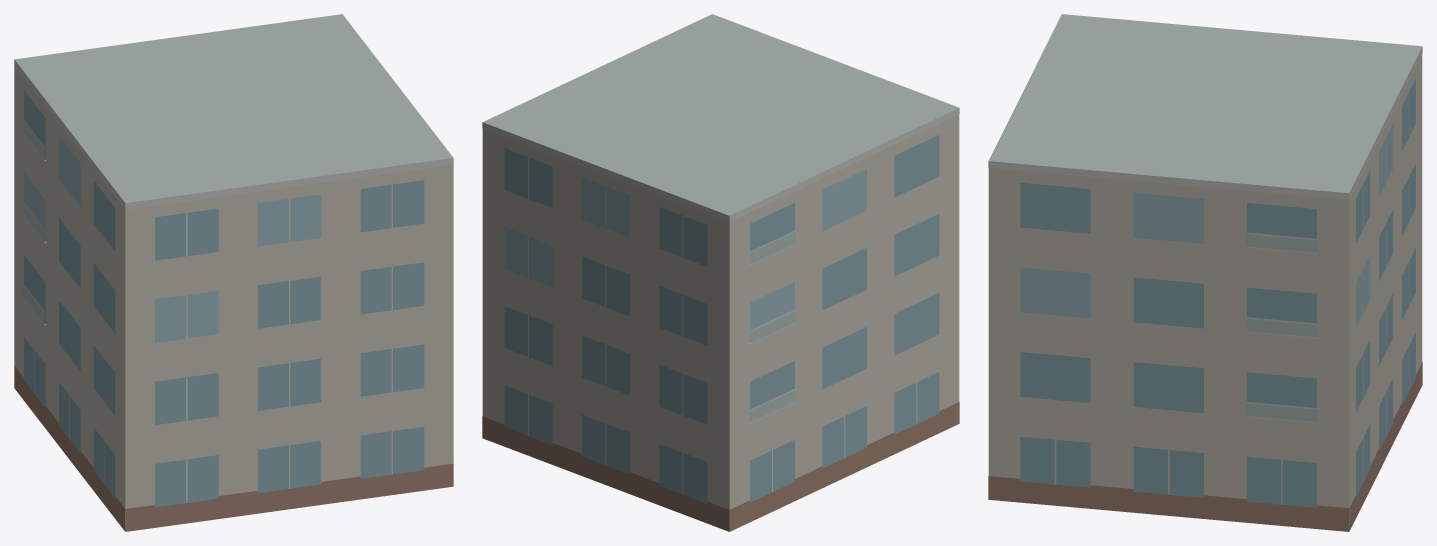
Rendered from residential-78df4bbf-b81b-483c-80f1-50c8a4558009.glb.
3 views of the same model, side by side, from view 1: azimuth 30°, elevation 25°; view 2: azimuth 150°, elevation 25°; view 3: azimuth 270°, elevation 25° (orthographic). The views are drawn at different scales.
Parts seen in each view (by area): view 1: residential-78df4bbf-b81b-483c-80f1-50c8a4558009.tmp; view 2: residential-78df4bbf-b81b-483c-80f1-50c8a4558009.tmp; view 3: residential-78df4bbf-b81b-483c-80f1-50c8a4558009.tmp.
Part boxes in pixels (x1,y1,x2,y2): residential-78df4bbf-b81b-483c-80f1-50c8a4558009.tmp: (14,14,453,531); residential-78df4bbf-b81b-483c-80f1-50c8a4558009.tmp: (482,14,959,531); residential-78df4bbf-b81b-483c-80f1-50c8a4558009.tmp: (988,14,1422,531).
Size of the model in its own units: 13.86 by 12.2 by 14.18.
